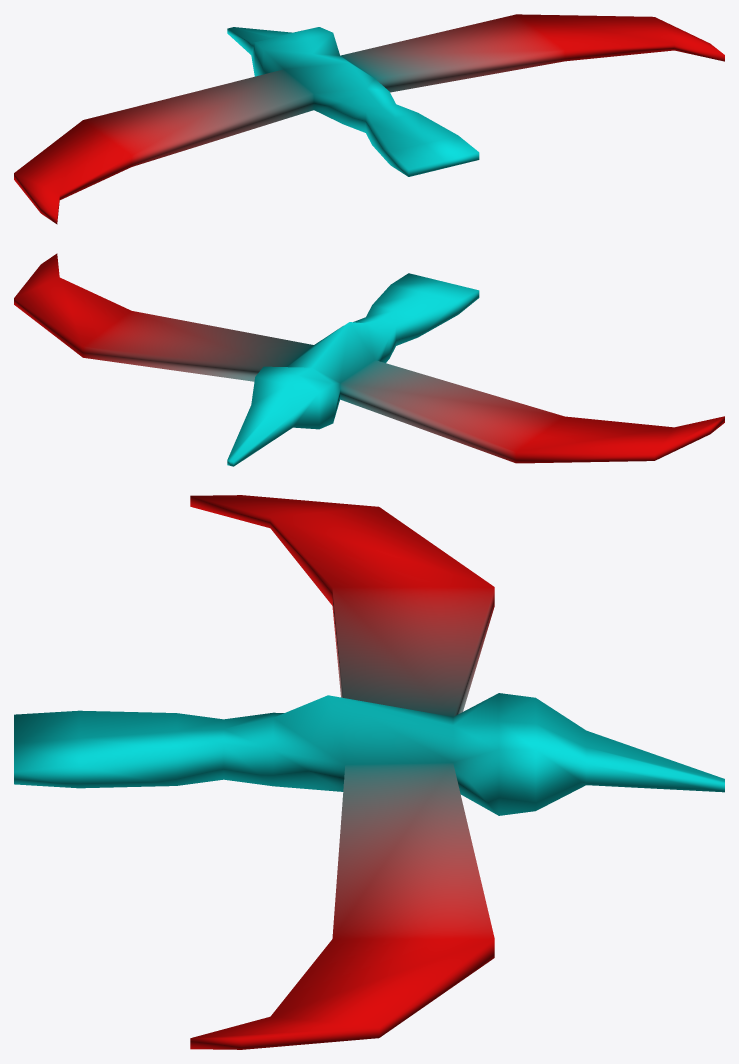
The model's file is zoizo.fbx.
3 views of the same model, one above another, from view 1: azimuth 30°, elevation 25°; view 2: azimuth 150°, elevation 25°; view 3: azimuth 270°, elevation 25° (orthographic). The views are drawn at different scales.
Parts seen in each view (by area): view 1: zoizo; view 2: zoizo; view 3: zoizo.
Part boxes in pixels (<box>): zoizo: <box>14,14,724,224</box>; zoizo: <box>14,253,724,466</box>; zoizo: <box>14,495,724,1049</box>.
Size of the model in its own units: 7.03 by 0.5693 by 3.88.
